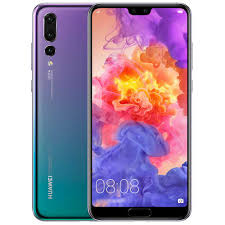huawei: (29, 2, 191, 222), (84, 1, 192, 220)
